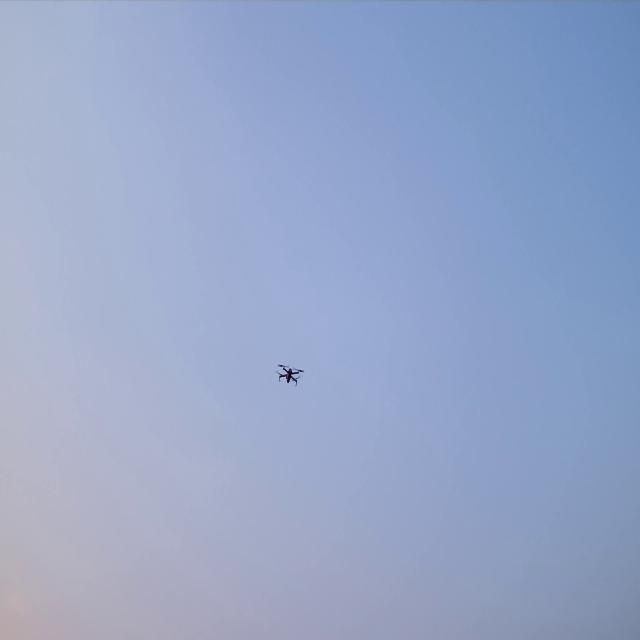UAV: (274, 361, 305, 388)
